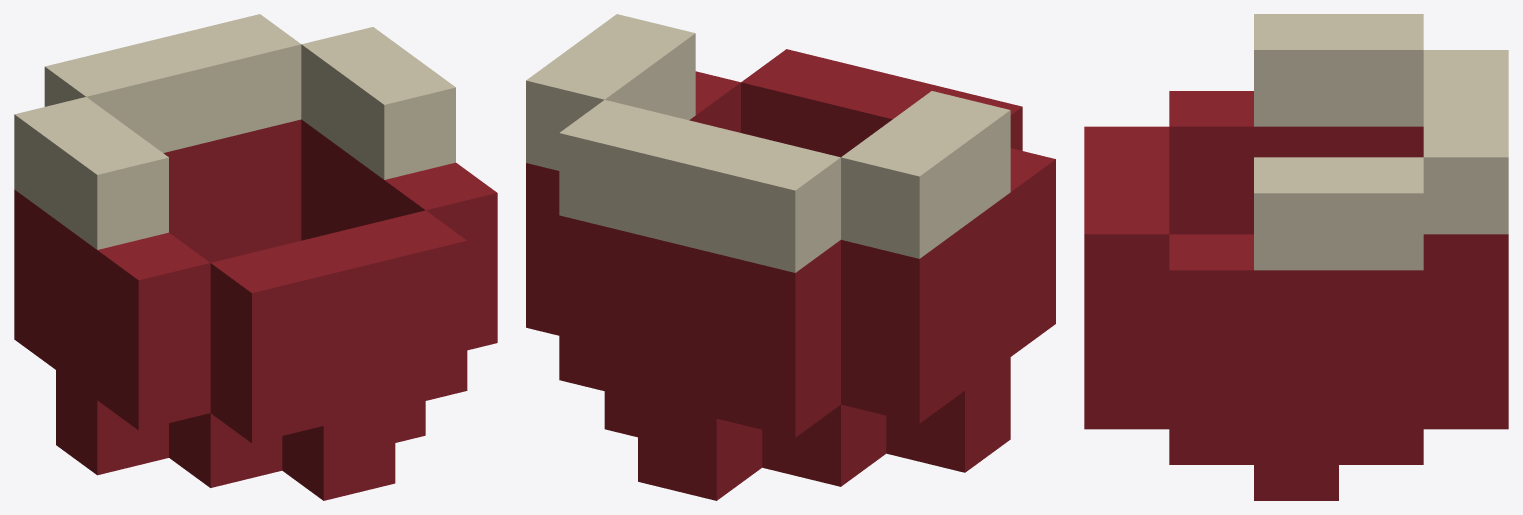
File: 3D Voxel Park-6.obj
3 renders of one model, left to right at view 1: azimuth 30°, elevation 25°; view 2: azimuth 150°, elevation 25°; view 3: azimuth 270°, elevation 25°, orthographic. The views are drawn at different scales.
Size of the model in its own units: 0.5 by 0.4 by 0.5.
1 material, 1 textured.
